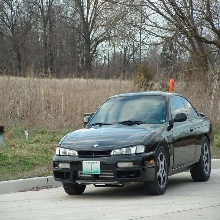no damage: (51, 91, 212, 197)
